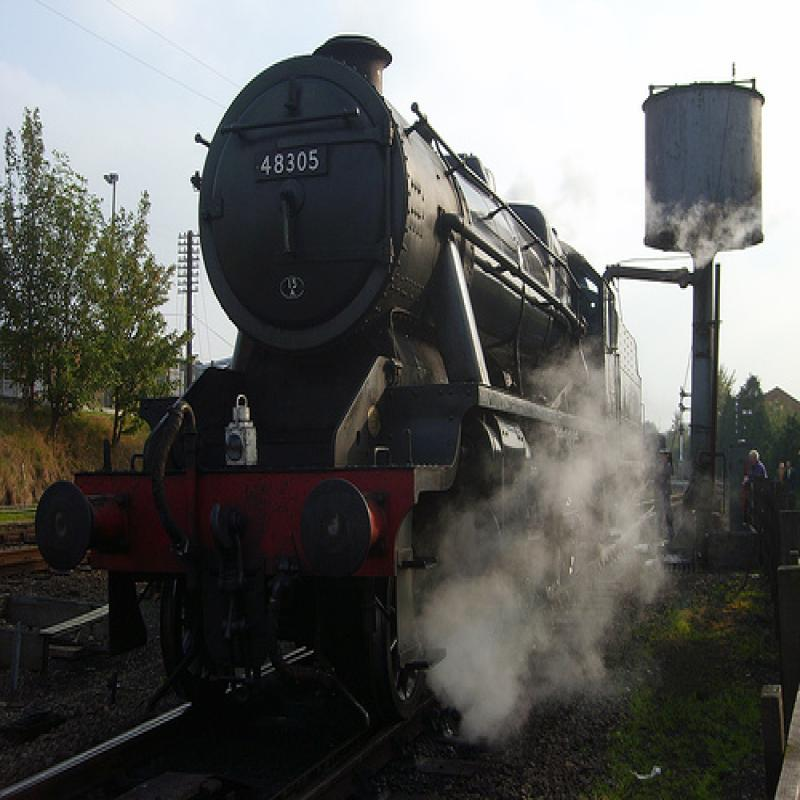train: (36, 35, 643, 726)
